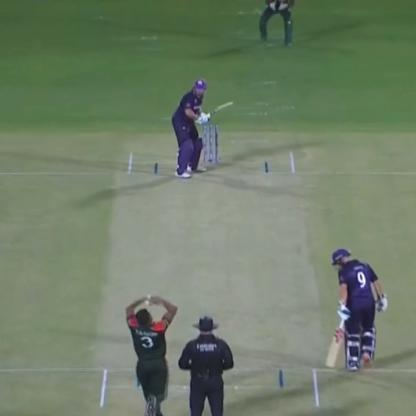ball: (144, 289, 155, 300), (141, 300, 150, 307)
bat: (326, 310, 344, 375), (199, 96, 240, 118)
pitch: (93, 154, 331, 410)
